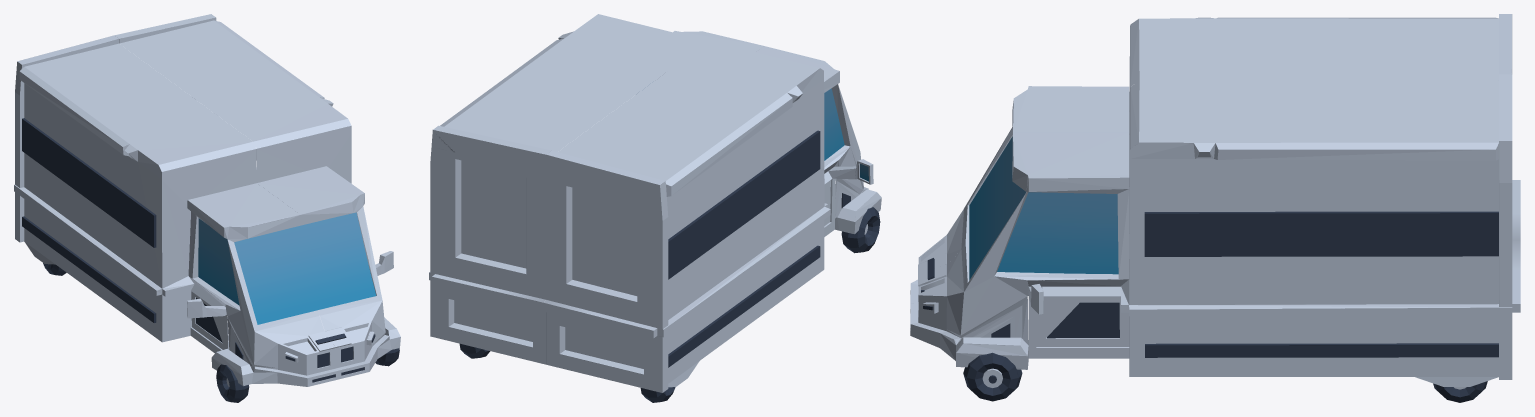
The model's file is ea3c177a-296d-438b-bcca-26bfdad66046.glb.
The picture shows the model from 3 angles, left to right: view 1: azimuth 30°, elevation 25°; view 2: azimuth 150°, elevation 25°; view 3: azimuth 270°, elevation 25°; orthographic projection. The views are drawn at different scales.
Visible parts, largest first — view 1: Node; view 2: Node; view 3: Node.
Boxes of the visible parts, x1,y1,x2,y2 form: Node: (14,14,400,402); Node: (429,14,881,402); Node: (910,14,1520,402).
Size of the model in its own units: 152 by 145 by 289.
Materials: 1 (1 with a texture image).
